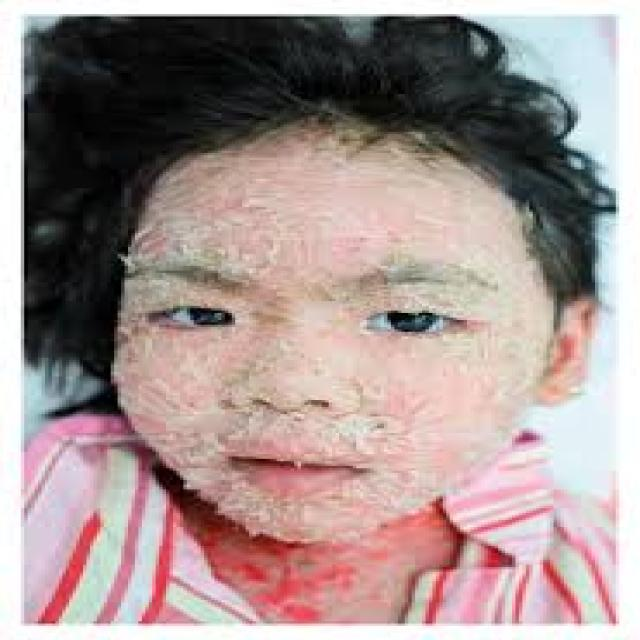flakiness: (121, 228, 417, 528)
